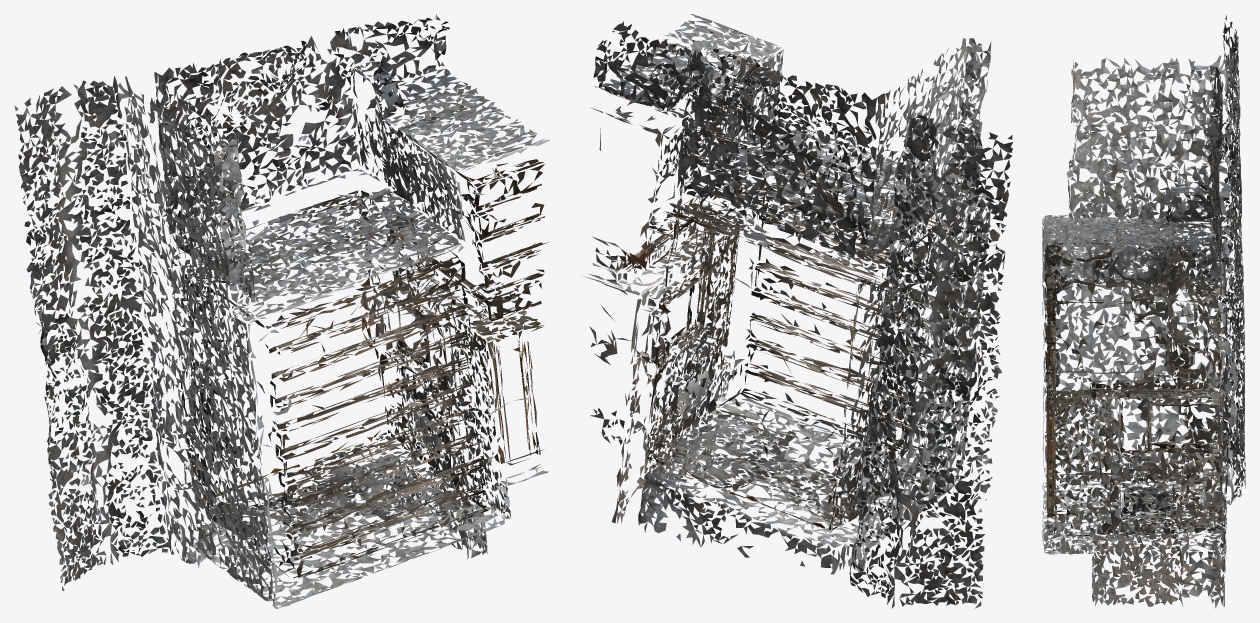
The picture shows the model from 3 angles, left to right: view 1: azimuth 30°, elevation 25°; view 2: azimuth 150°, elevation 25°; view 3: azimuth 270°, elevation 25°; orthographic projection. The views are drawn at different scales.
Bounding box in the file's own units: 12.83 × 14.08 × 5.99.
1 material, 1 textured.
